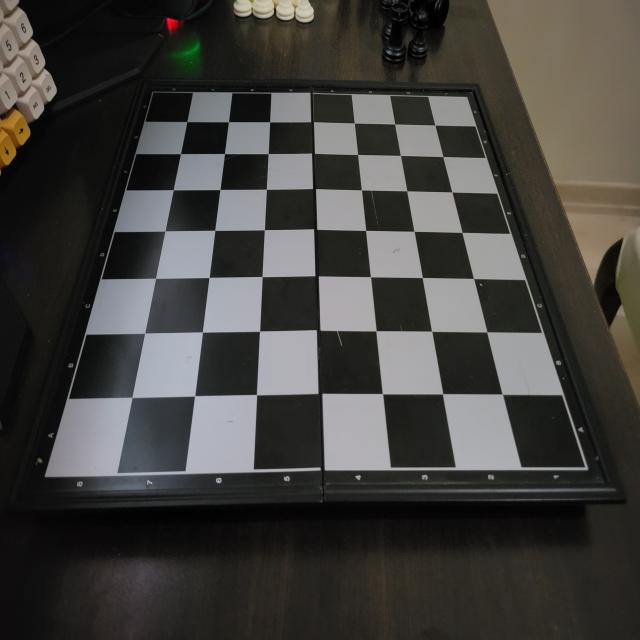chess-board: (29, 83, 584, 493)
